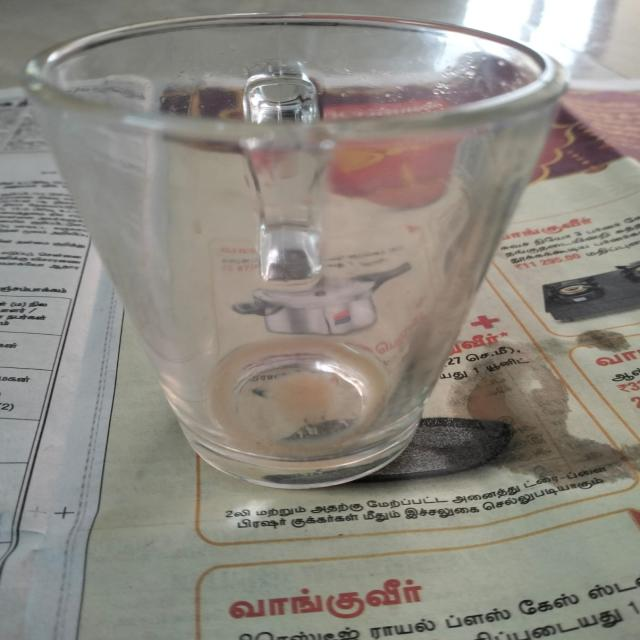glass-VX4N: (20, 11, 569, 492)
